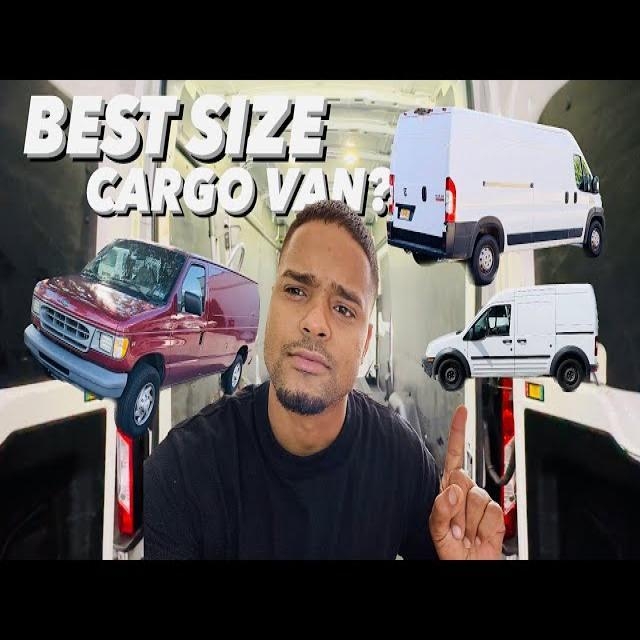truck: (22, 236, 260, 437), (385, 104, 605, 286), (421, 281, 599, 392)
